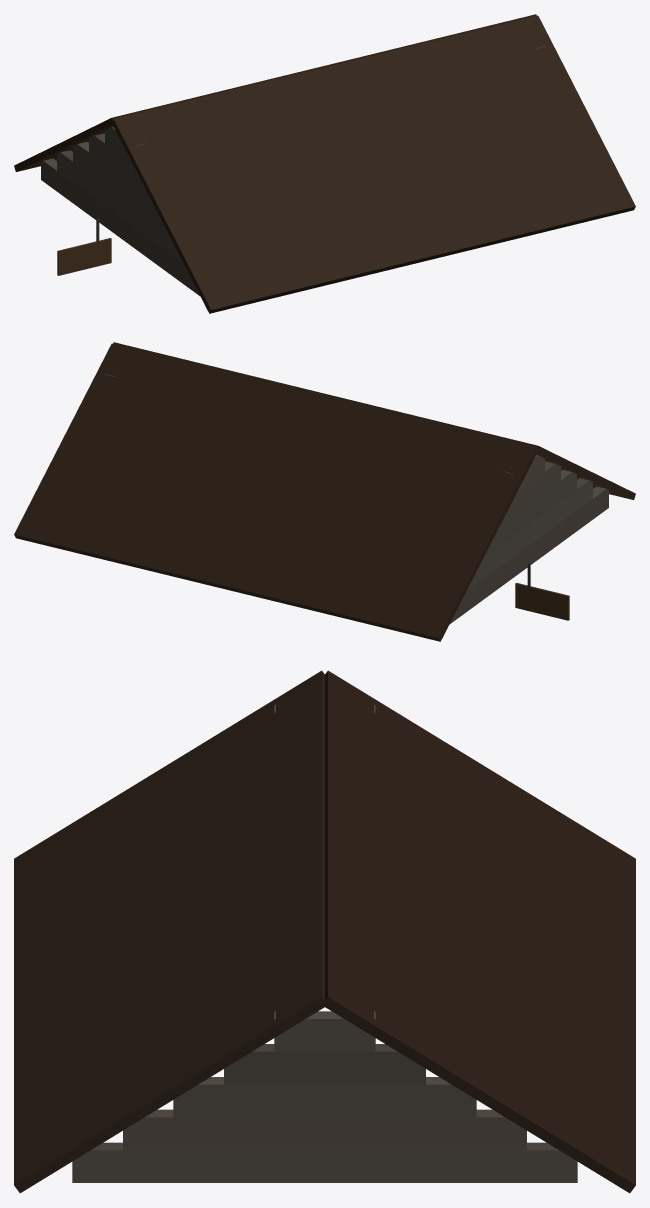
Rendered from inn_roof.glb.
3 renders of one model, top to bottom at view 1: azimuth 30°, elevation 25°; view 2: azimuth 150°, elevation 25°; view 3: azimuth 270°, elevation 25°, orthographic. The views are drawn at different scales.
Parts seen in each view (by area): view 1: InnRoof; view 2: InnRoof; view 3: InnRoof.
Part boxes in pixels (x1,y1,x2,y2): InnRoof: [14, 14, 635, 313]; InnRoof: [14, 342, 635, 641]; InnRoof: [14, 670, 635, 1193].
Size of the model in its own units: 14.1 by 4.46 by 10.3.
